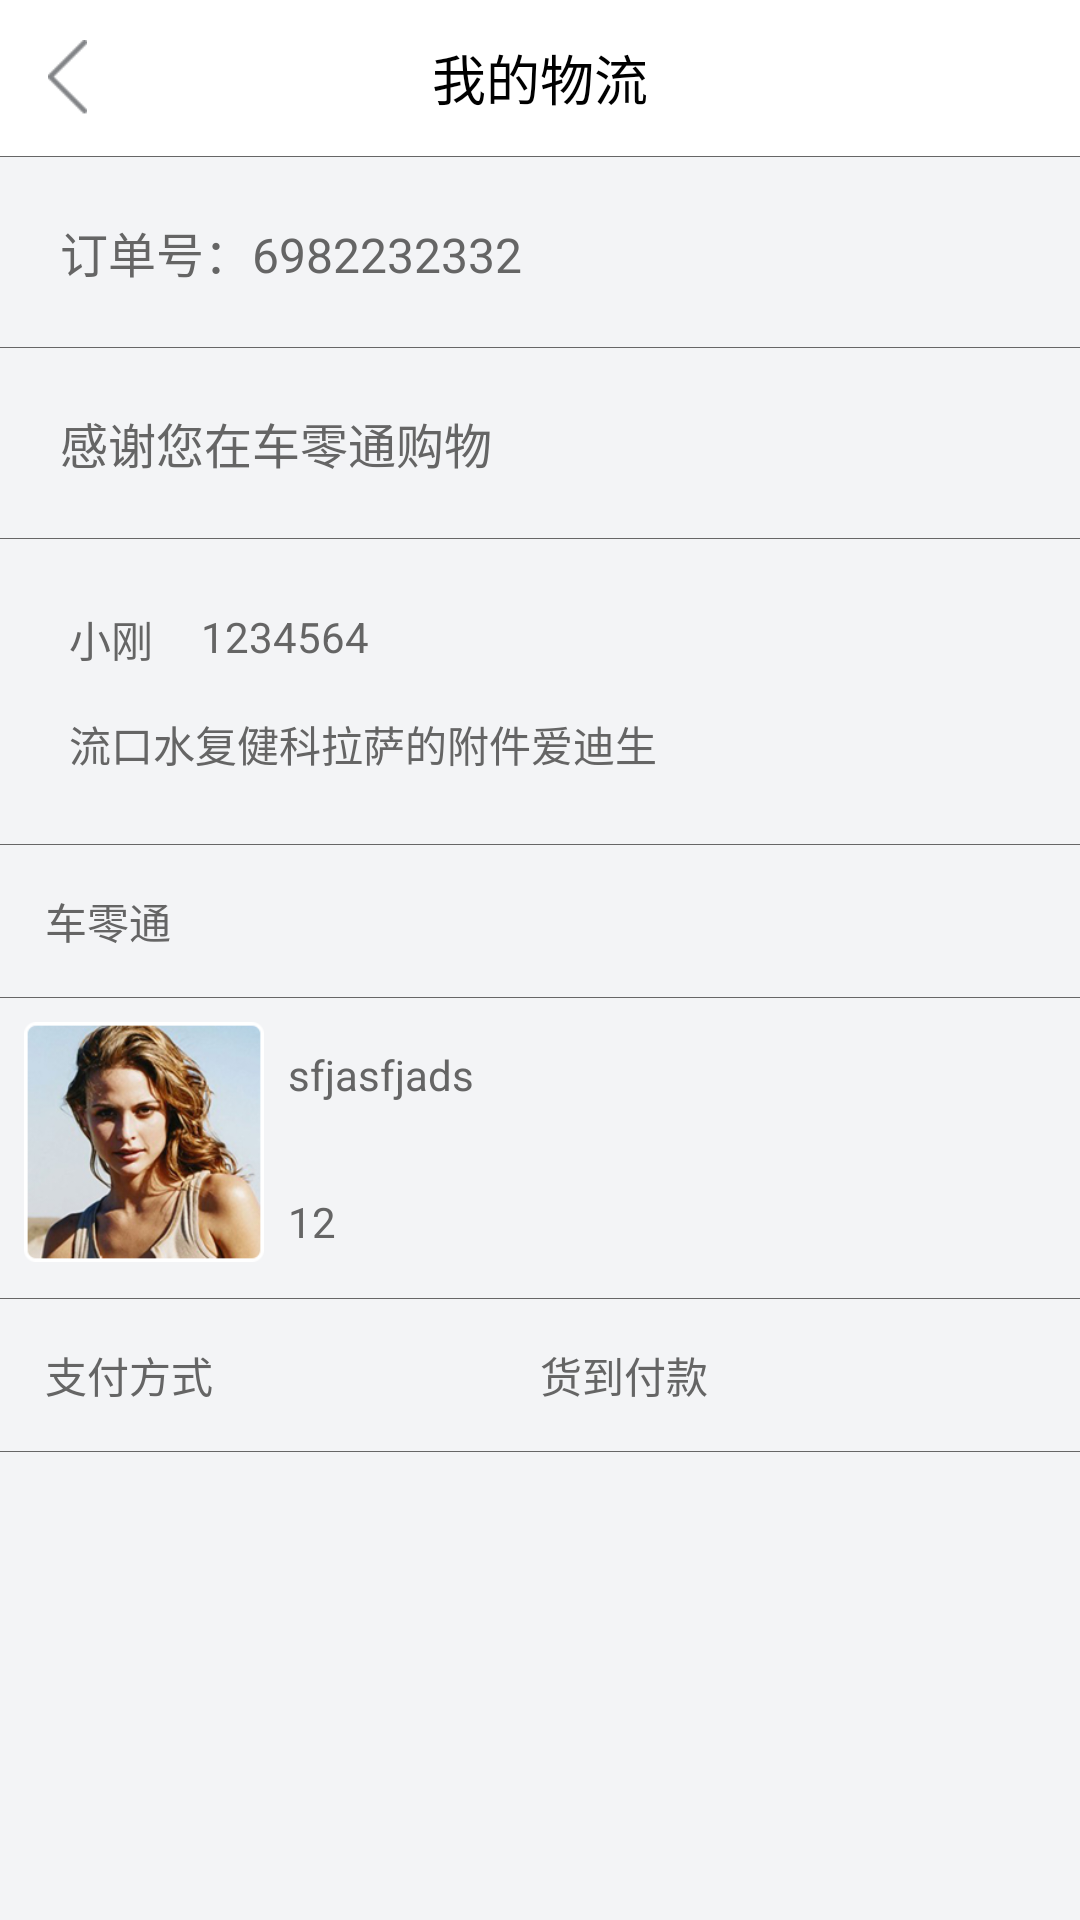

Icons on this 1080*1920 Android screen, each with its box as box=[x1, y1, x2, y2]:
back: box=[48, 40, 87, 114]
head: box=[27, 1025, 260, 1259]
